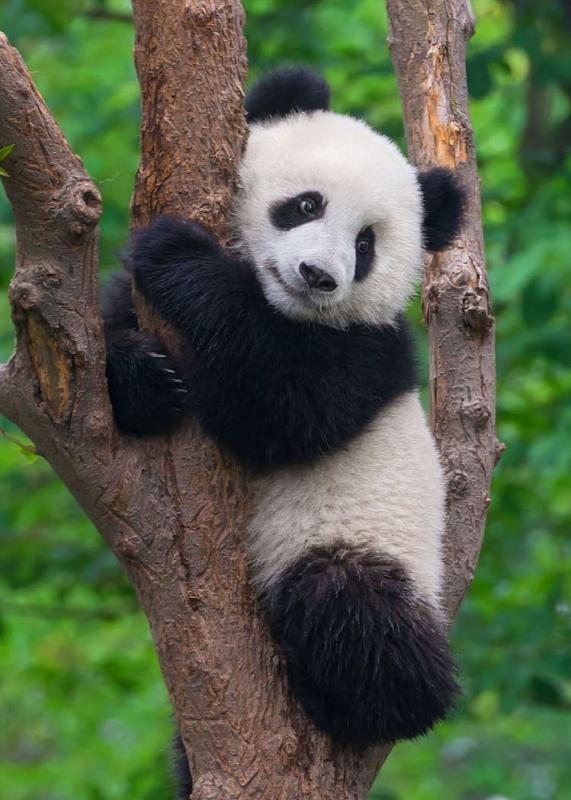Giant panda: (226, 71, 463, 322)
